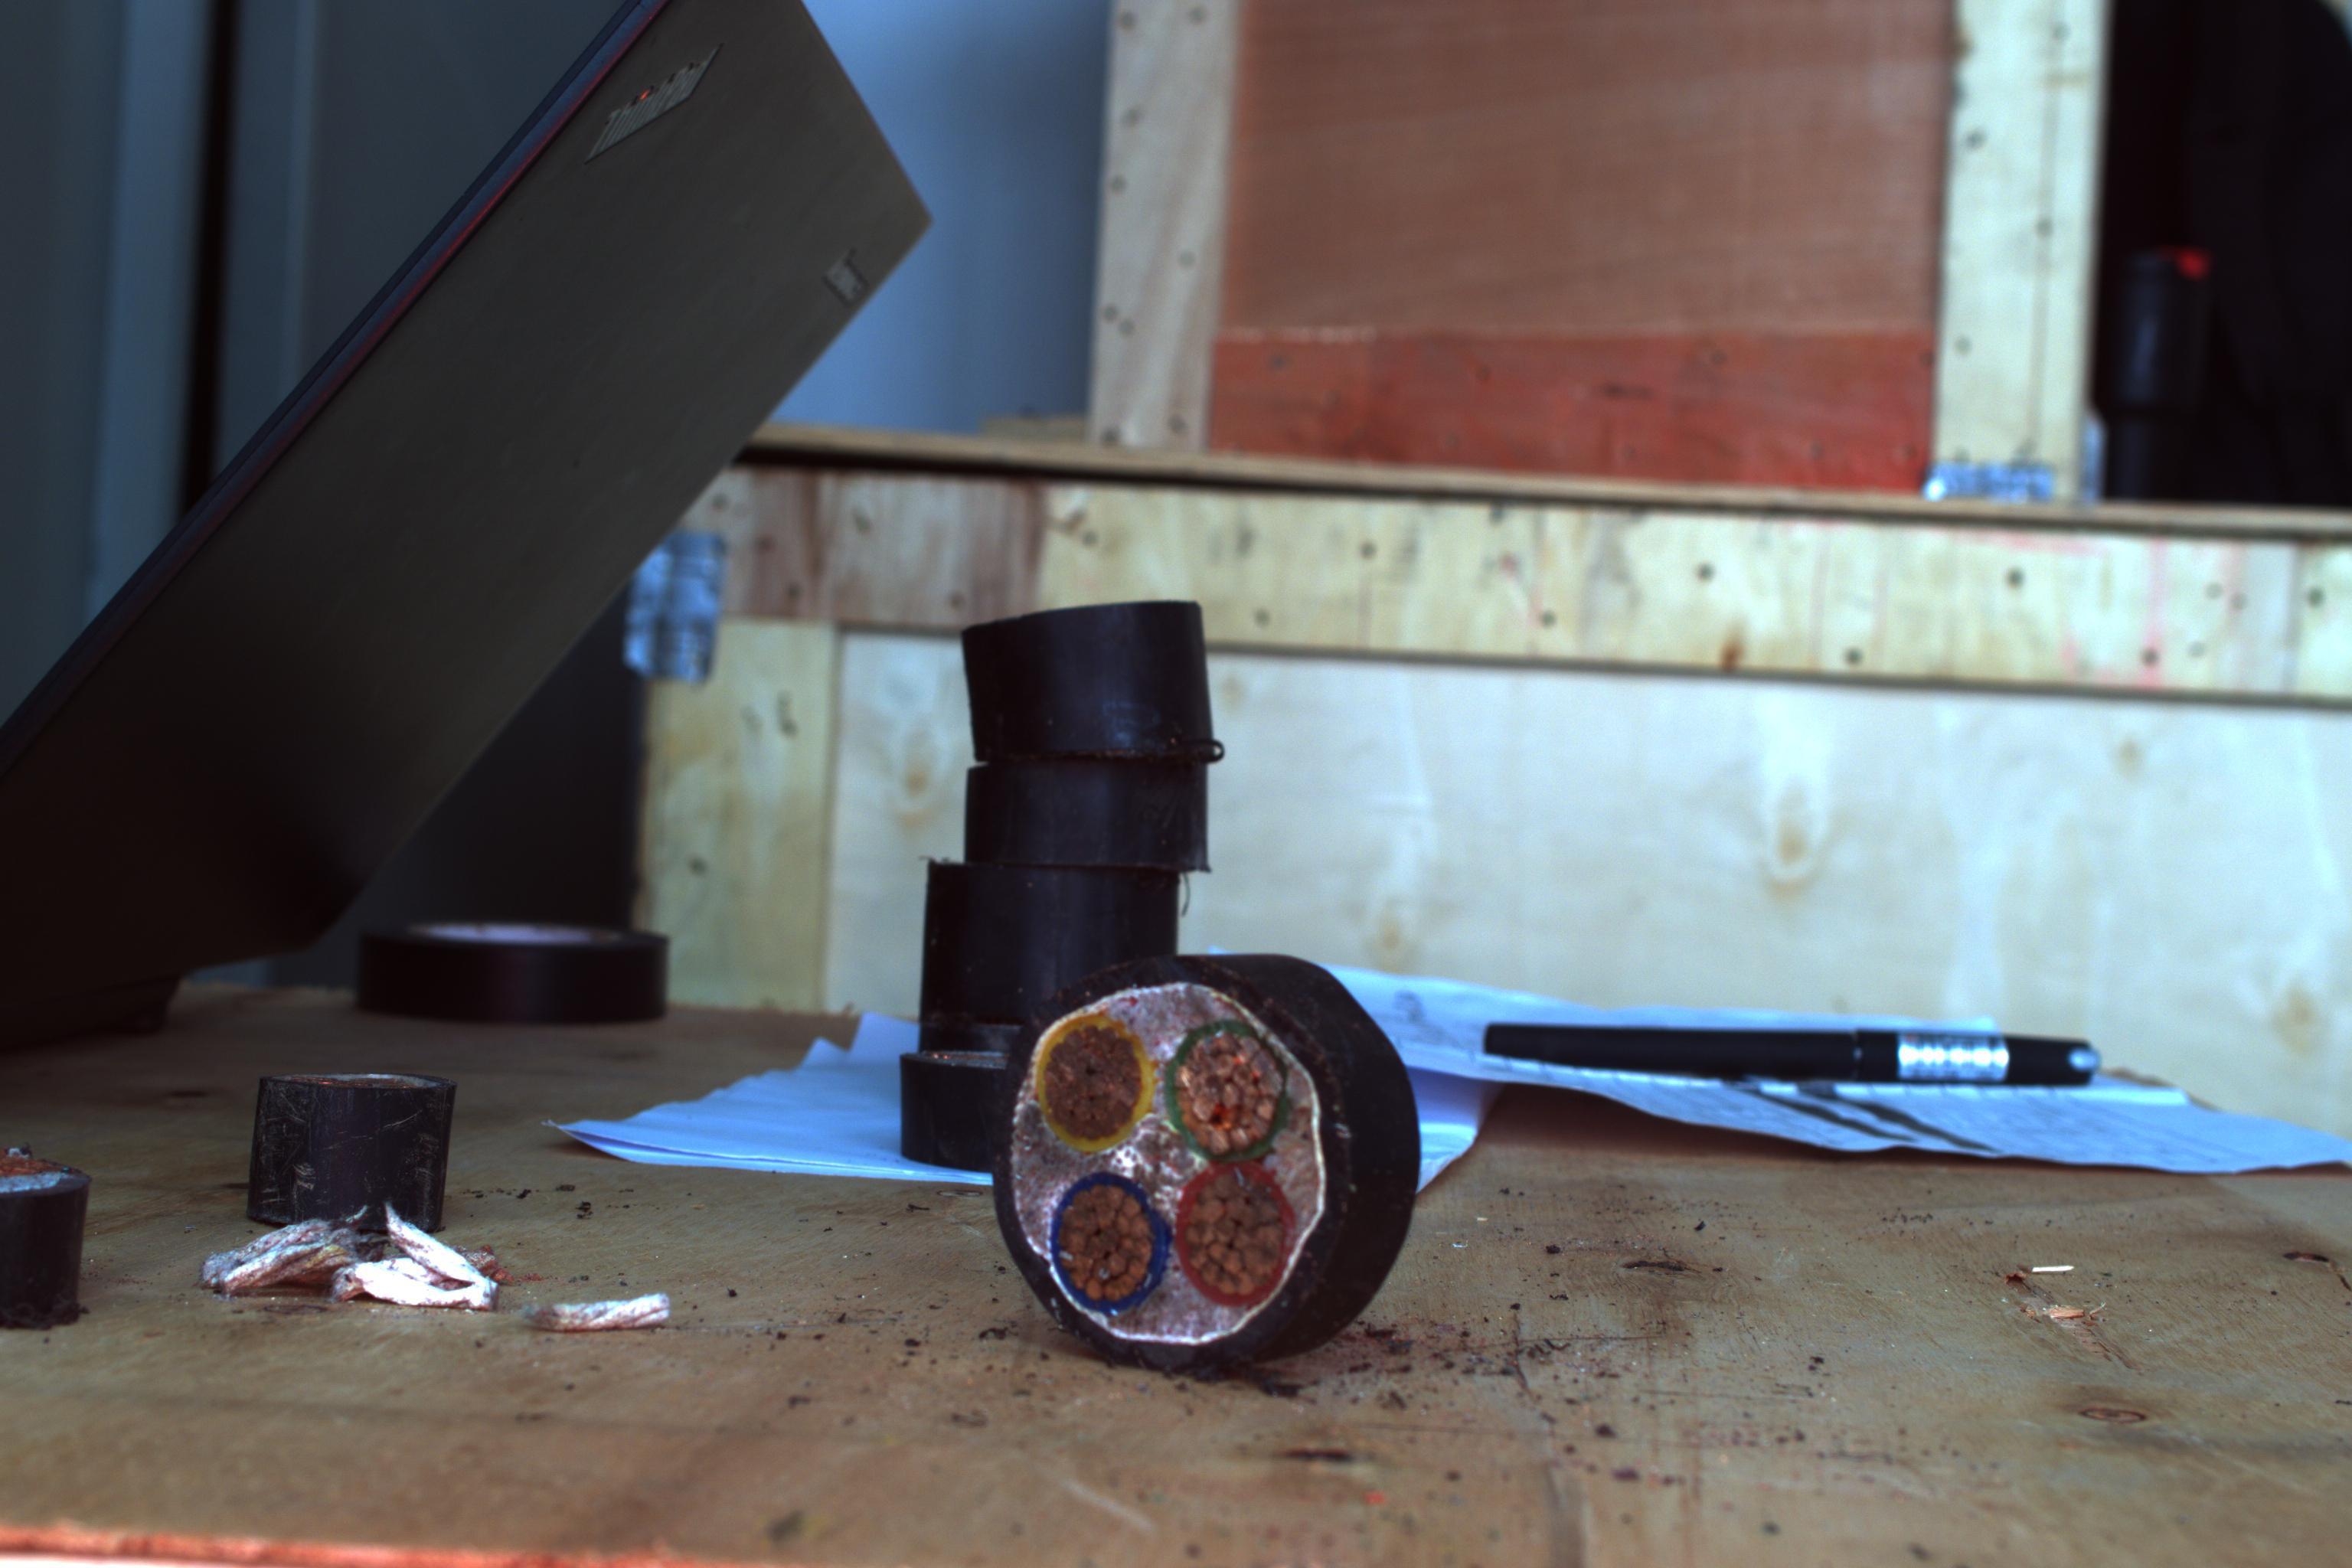YJV_0.6_1kV_4x120: (990, 955, 1353, 1367)
